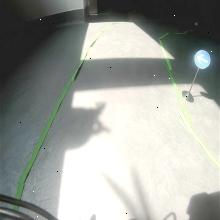left: (194, 49, 211, 70)
